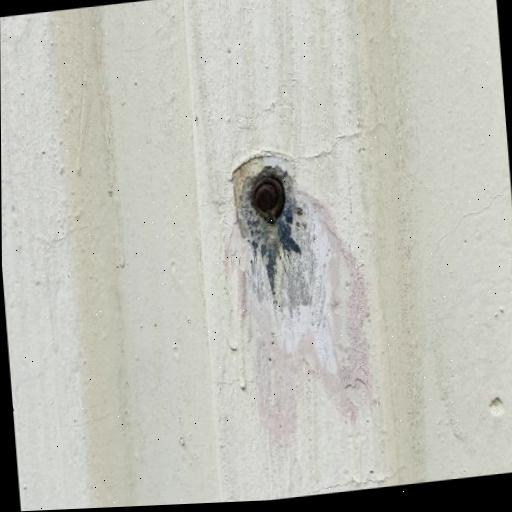exposed_rebar: (252, 177, 286, 224)
spalling: (234, 156, 336, 369)
